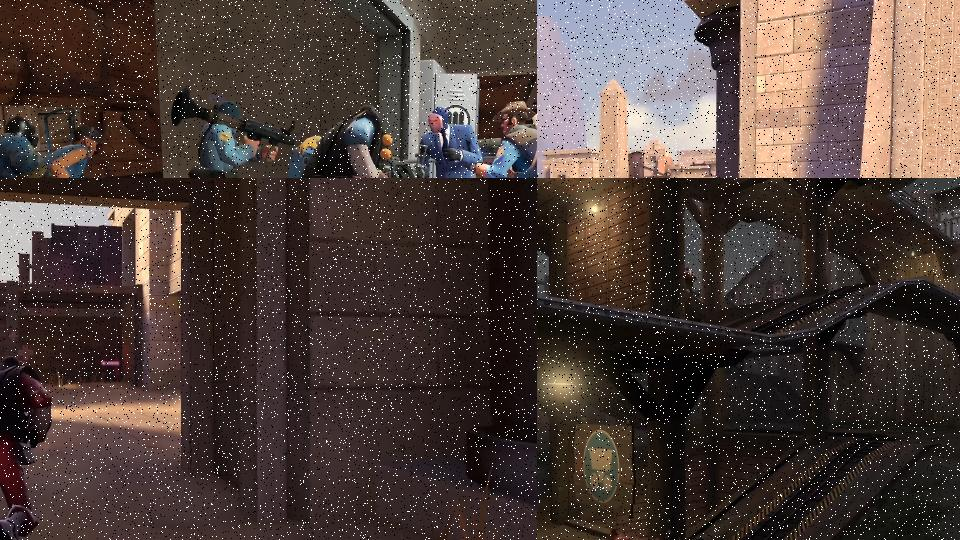Enemy: (169, 88, 301, 178), (297, 103, 426, 178), (0, 357, 46, 540), (0, 115, 116, 178), (33, 121, 147, 178), (471, 104, 537, 178), (413, 107, 478, 178)
